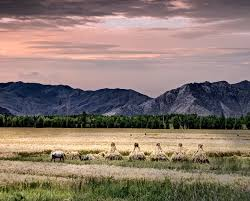field: (4, 124, 249, 201)
mountain: (3, 80, 249, 126)
sky: (2, 2, 250, 81)
